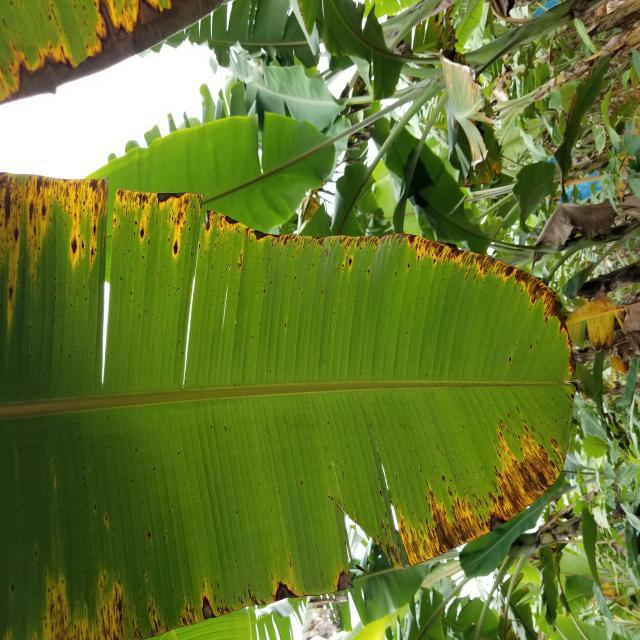Early_rust: (0, 162, 626, 640), (0, 0, 183, 102)
